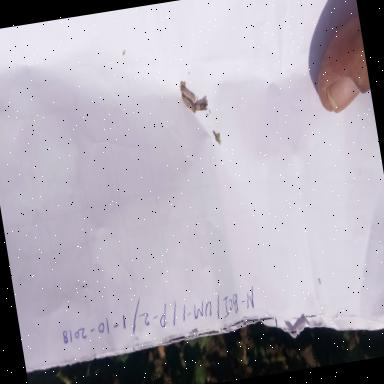pbw: (191, 90, 213, 116), (178, 81, 196, 104), (178, 92, 195, 115)
